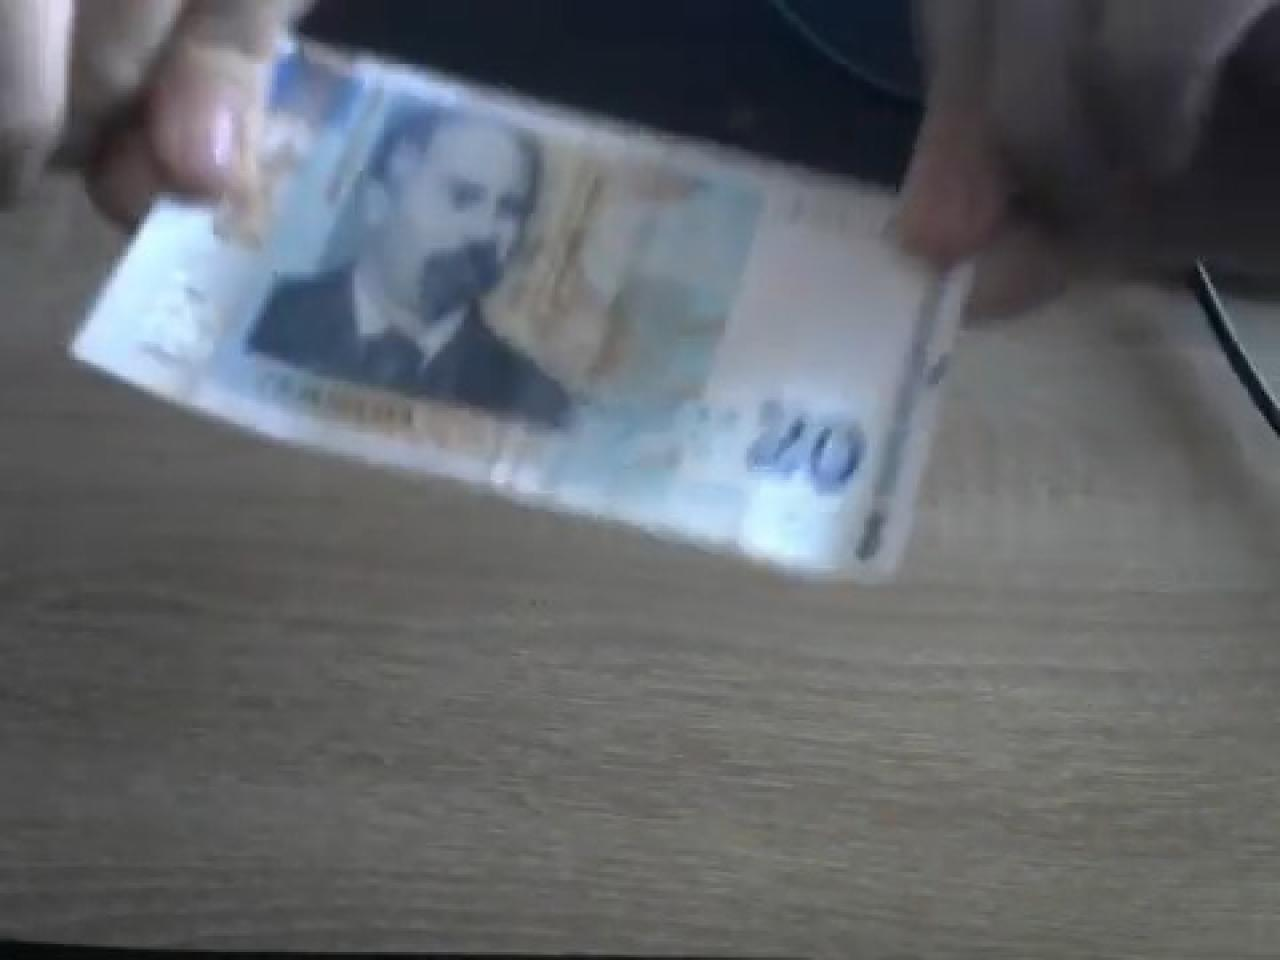20leva: (67, 29, 979, 587)
